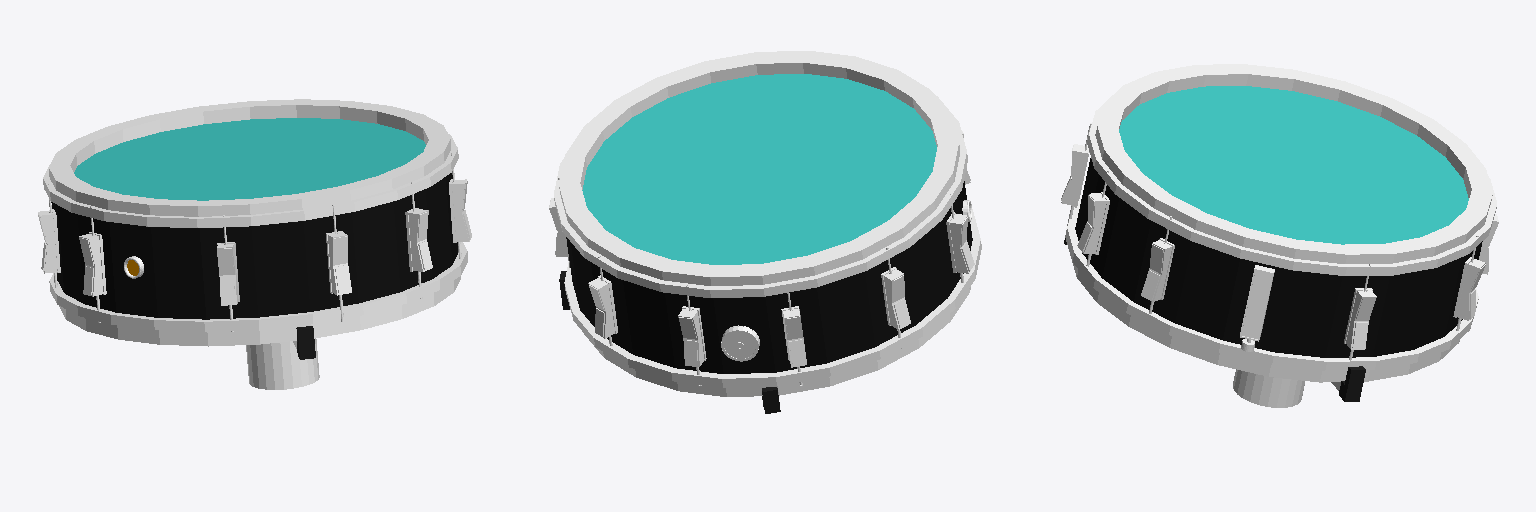
File: Snare.obj
3 renders of one model, left to right at view 1: azimuth 30°, elevation 25°; view 2: azimuth 150°, elevation 25°; view 3: azimuth 270°, elevation 25°, orthographic.
Parts seen in each view (by area): view 1: ComponentFBXASC03511_001; view 2: ComponentFBXASC03511_001; view 3: ComponentFBXASC03511_001.
Boxes of the visible parts, <box> form: ComponentFBXASC03511_001: <box>38,99,471,389</box>; ComponentFBXASC03511_001: <box>549,51,981,413</box>; ComponentFBXASC03511_001: <box>1061,64,1498,407</box>.
Bounding box in the file's own units: 234 × 158 × 238.